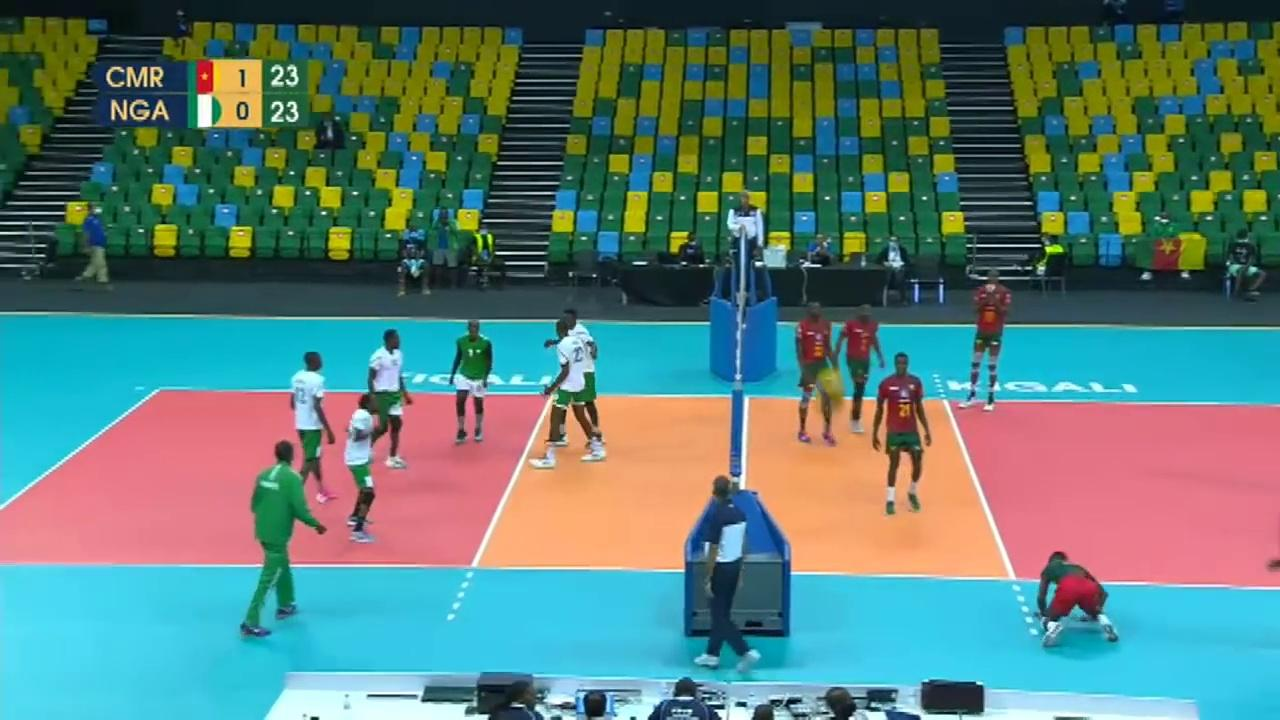player: (870, 354, 937, 513), (535, 326, 610, 465), (1035, 545, 1121, 651), (545, 307, 611, 441), (284, 350, 336, 508), (336, 393, 389, 546), (360, 333, 411, 469), (448, 319, 497, 444), (836, 302, 881, 437), (794, 300, 837, 440), (970, 272, 1011, 406)
refree: (683, 473, 773, 677), (725, 193, 766, 295)
